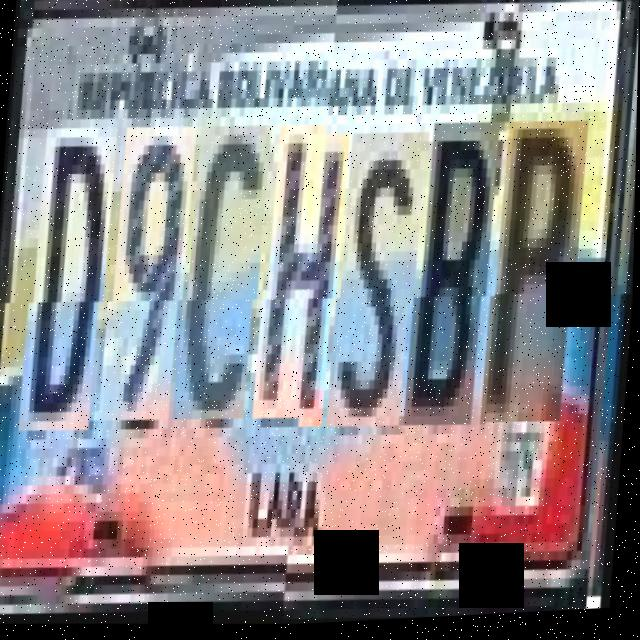9: (105, 135, 197, 434)
B: (414, 126, 501, 434)
C: (179, 135, 271, 435)
D: (24, 135, 118, 444)
H: (258, 135, 350, 435)
P: (487, 125, 589, 435)
S: (333, 134, 429, 435)
